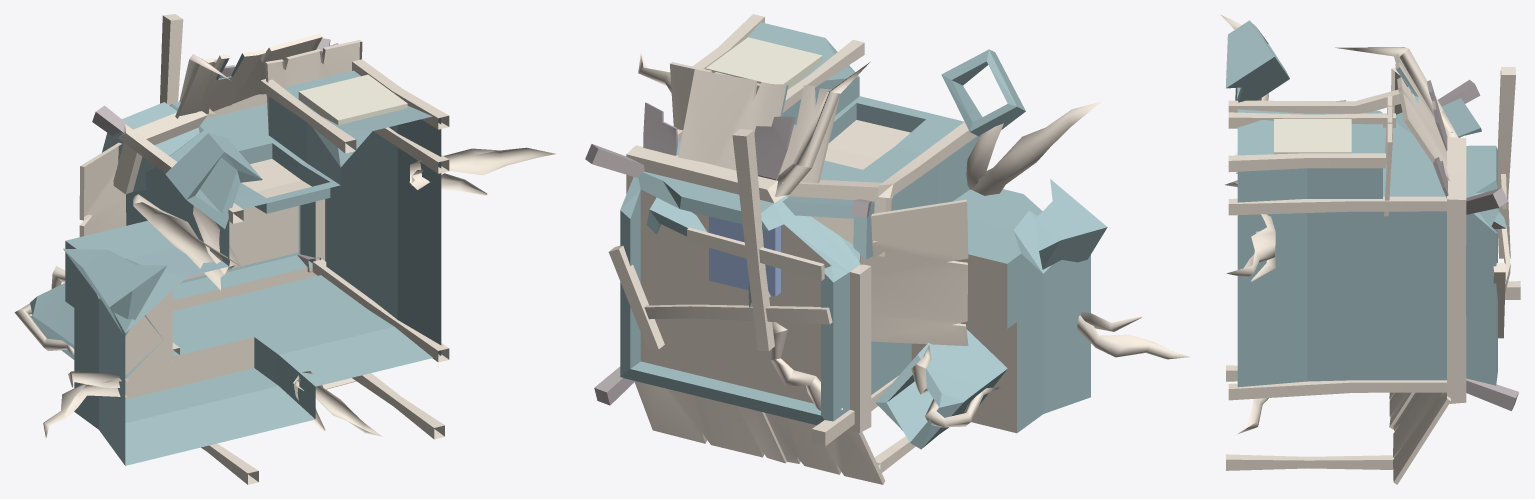
The picture shows the model from 3 angles, left to right: view 1: azimuth 30°, elevation 25°; view 2: azimuth 150°, elevation 25°; view 3: azimuth 270°, elevation 25°; orthographic projection. The views are drawn at different scales.
Parts seen in each view (by area): view 1: Object04; view 2: Object04; view 3: Object04.
Boxes of the visible parts, x1,y1,x2,y2 form: Object04: (14,14,555,484); Object04: (585,14,1190,484); Object04: (1220,14,1520,484).
Size of the model in its own units: 79964 by 54285 by 41577.
